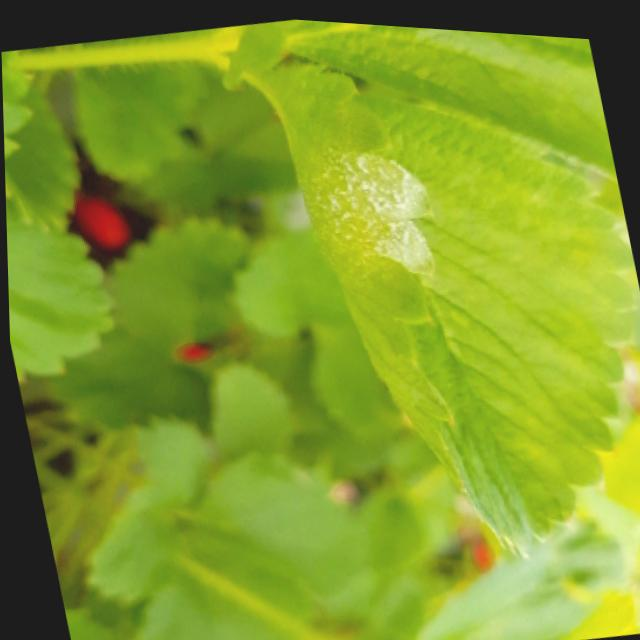Powdery Mildew Leaf: (245, 57, 636, 555)
